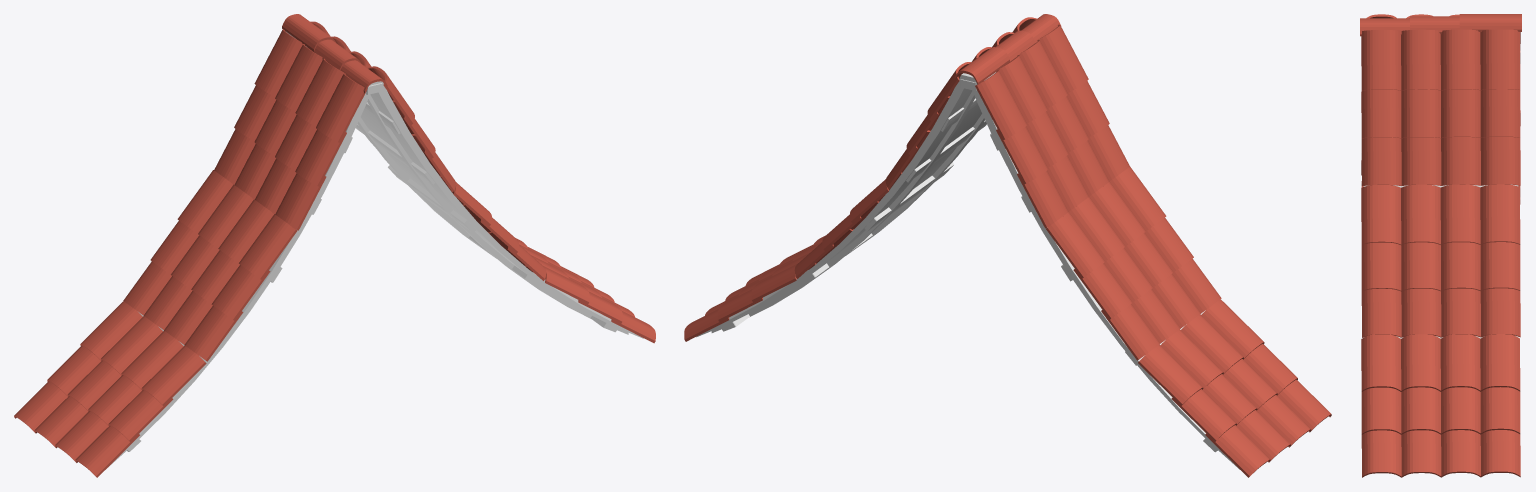
File: S_Roof_NoFrame.fbx
3 renders of one model, left to right at view 1: azimuth 30°, elevation 25°; view 2: azimuth 150°, elevation 25°; view 3: azimuth 270°, elevation 25°, orthographic. The views are drawn at different scales.
Parts seen in each view (by area): view 1: S_Roof_Tiles, S_Roof_NoFrame, Cube.013; view 2: S_Roof_Tiles, S_Roof_NoFrame, Cube.013; view 3: S_Roof_Tiles.
Boxes of the visible parts, x1,y1,x2,y2 form: S_Roof_Tiles: [14, 14, 655, 477]; S_Roof_NoFrame: [108, 31, 643, 467]; Cube.013: [127, 83, 617, 451]; S_Roof_Tiles: [684, 14, 1331, 477]; S_Roof_NoFrame: [696, 72, 1239, 469]; Cube.013: [721, 79, 1217, 452]; S_Roof_Tiles: [1360, 14, 1521, 477].
Bounding box in the file's own units: 1418 × 804 × 357.
